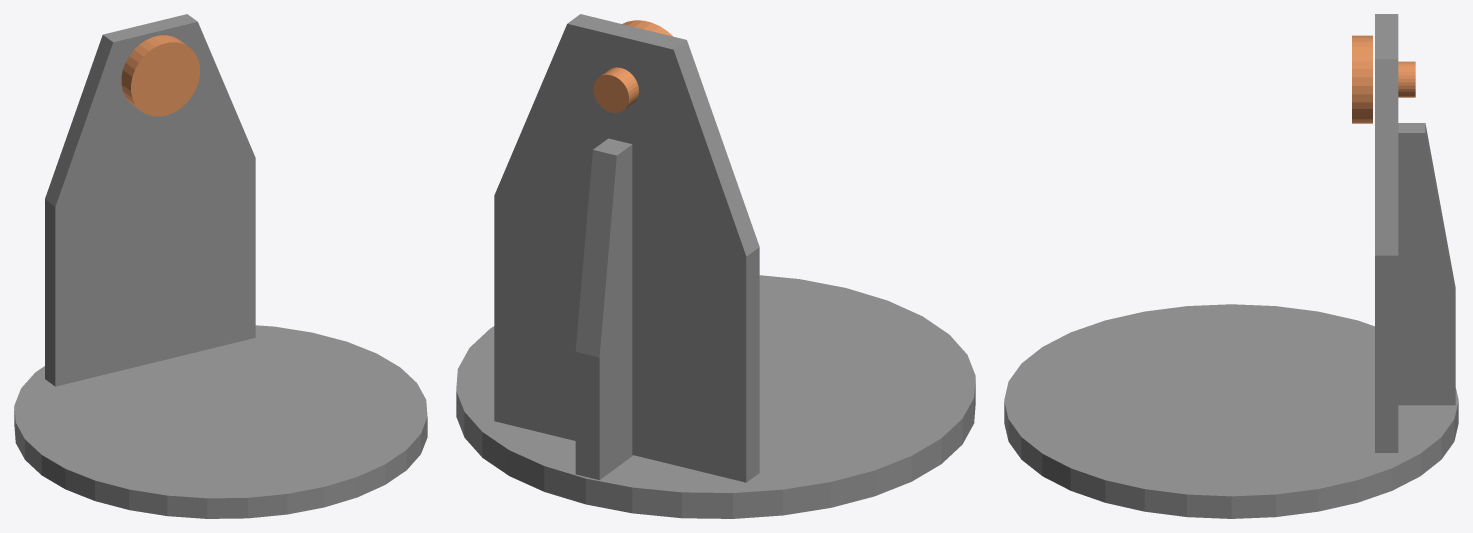
3 views of the same model, side by side, from view 1: azimuth 30°, elevation 25°; view 2: azimuth 150°, elevation 25°; view 3: azimuth 270°, elevation 25° (orthographic). The views are drawn at different scales.
Parts seen in each view (by area): view 1: Base; view 2: Base; view 3: Base.
Boxes of the visible parts, box(x1,y1,x2,y2) form: Base: box(14, 14, 427, 518); Base: box(456, 14, 975, 518); Base: box(1004, 14, 1458, 518).
Size of the model in its own units: 0.4987 by 0.4675 by 0.4987.
